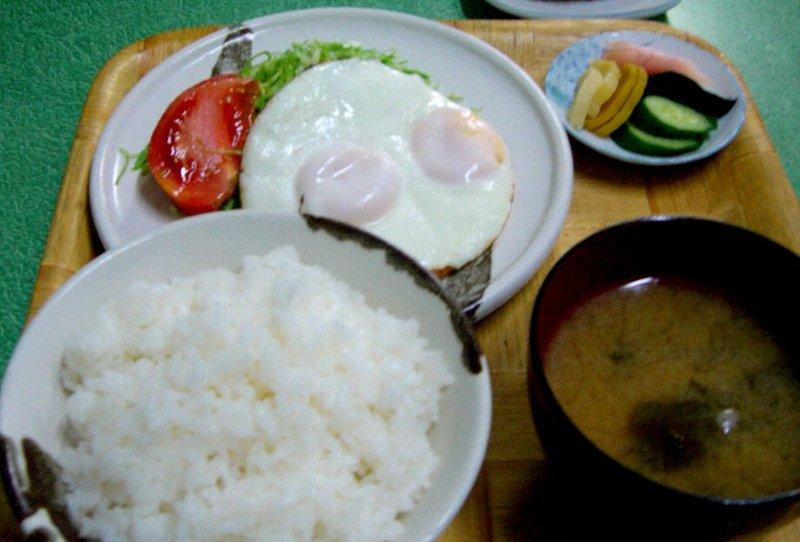plate: (0, 211, 490, 541)
rice: (59, 248, 448, 541)
